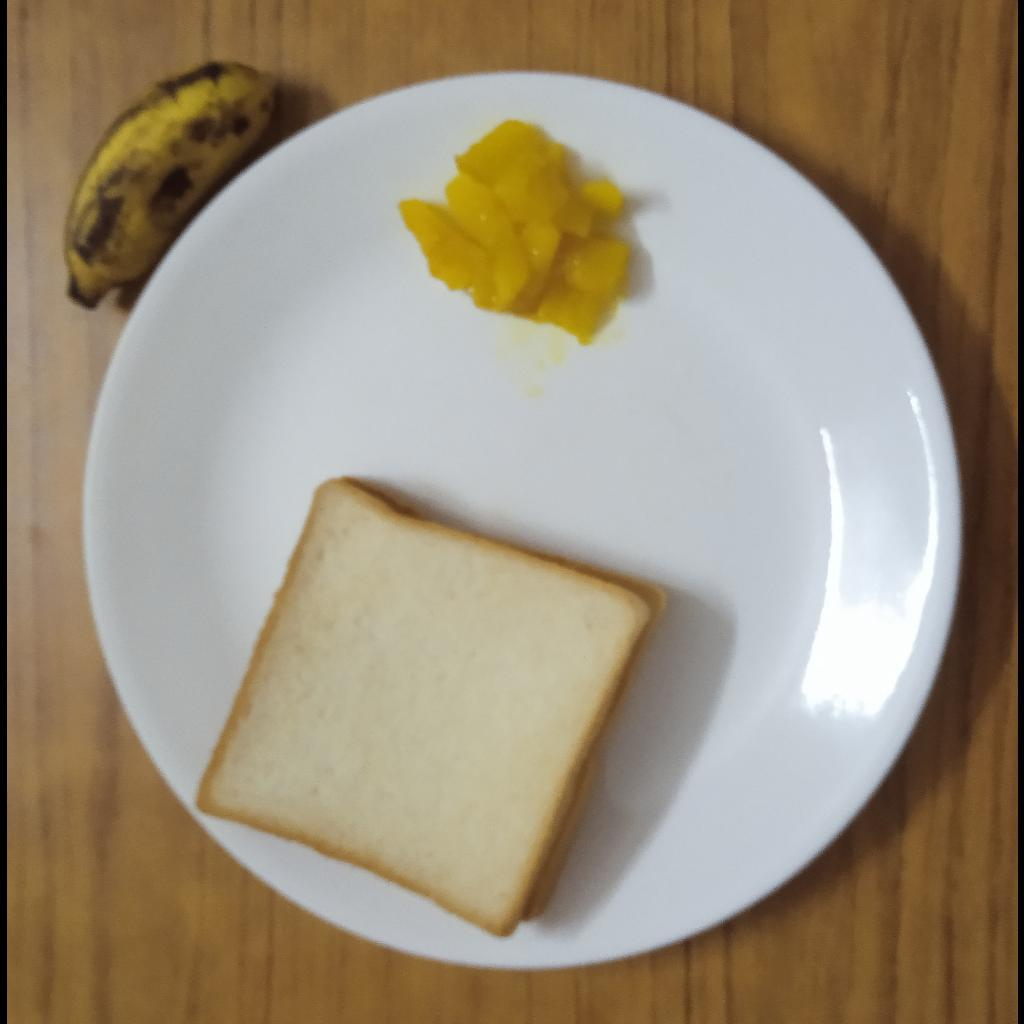banana: (55, 58, 285, 309)
bread: (192, 477, 668, 945)
lau: (395, 116, 630, 347)
